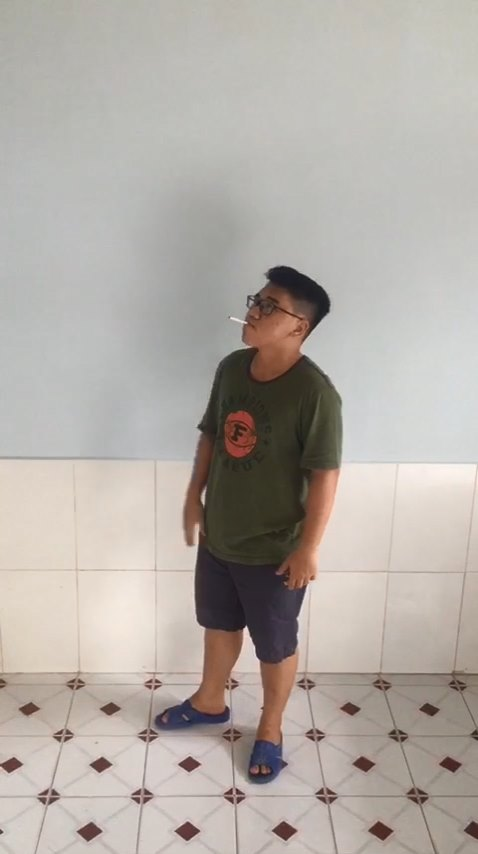cigarette: (225, 310, 253, 331)
person: (149, 248, 357, 792)
